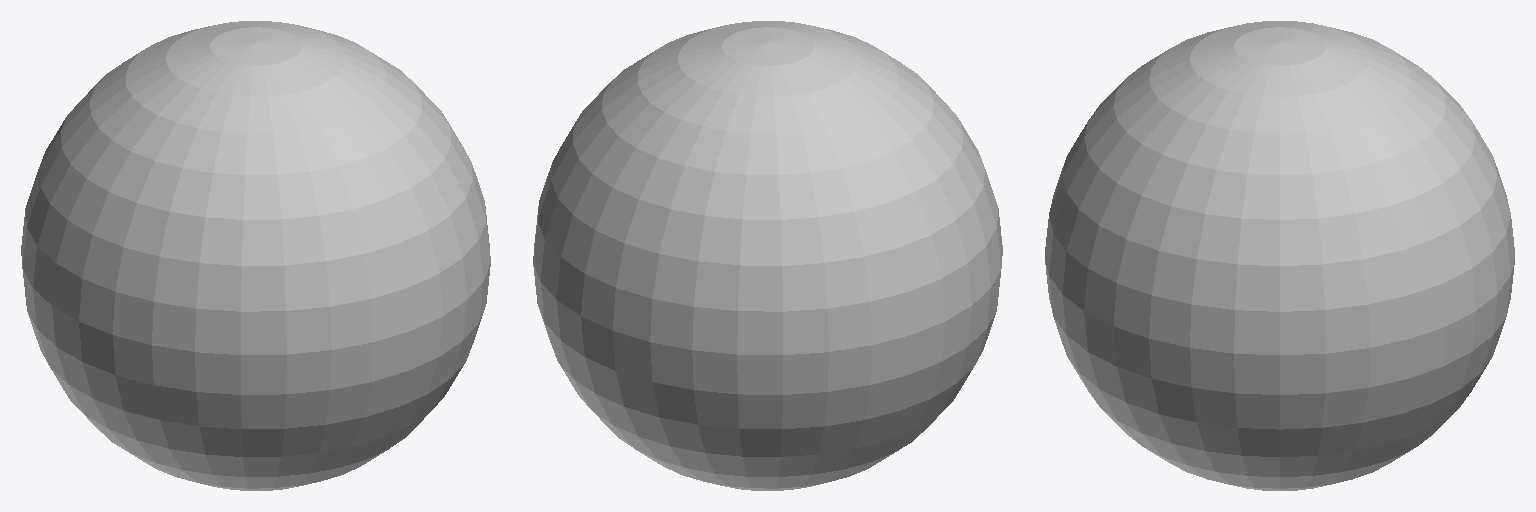
File: ball.obj
3 renders of one model, left to right at view 1: azimuth 30°, elevation 25°; view 2: azimuth 150°, elevation 25°; view 3: azimuth 270°, elevation 25°, orthographic.
Visible parts, largest first — view 1: Sphere; view 2: Sphere; view 3: Sphere.
Part boxes in pixels (x1,y1,x2,y2): Sphere: (21, 21, 490, 490); Sphere: (533, 21, 1002, 490); Sphere: (1045, 21, 1514, 490).
Bounding box in the file's own units: 2 × 2 × 2.